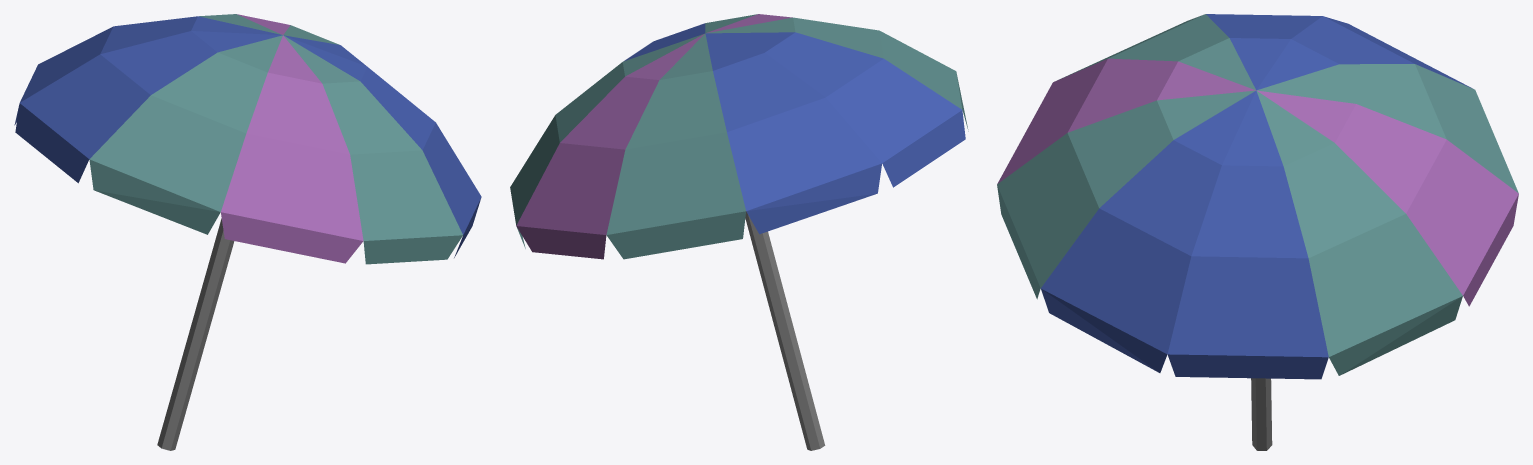
Rendered from bay-parasol.lod0.glb.
3 renders of one model, left to right at view 1: azimuth 30°, elevation 25°; view 2: azimuth 150°, elevation 25°; view 3: azimuth 270°, elevation 25°, orthographic. The views are drawn at different scales.
Visible parts, largest first — view 1: Gray-material; view 2: Gray-material; view 3: Gray-material.
Boxes of the visible parts, x1,y1,x2,y2 form: Gray-material: (14,14,481,450); Gray-material: (510,14,968,450); Gray-material: (997,14,1518,450).
Size of the model in its own units: 2.49 by 2.4 by 2.65.
